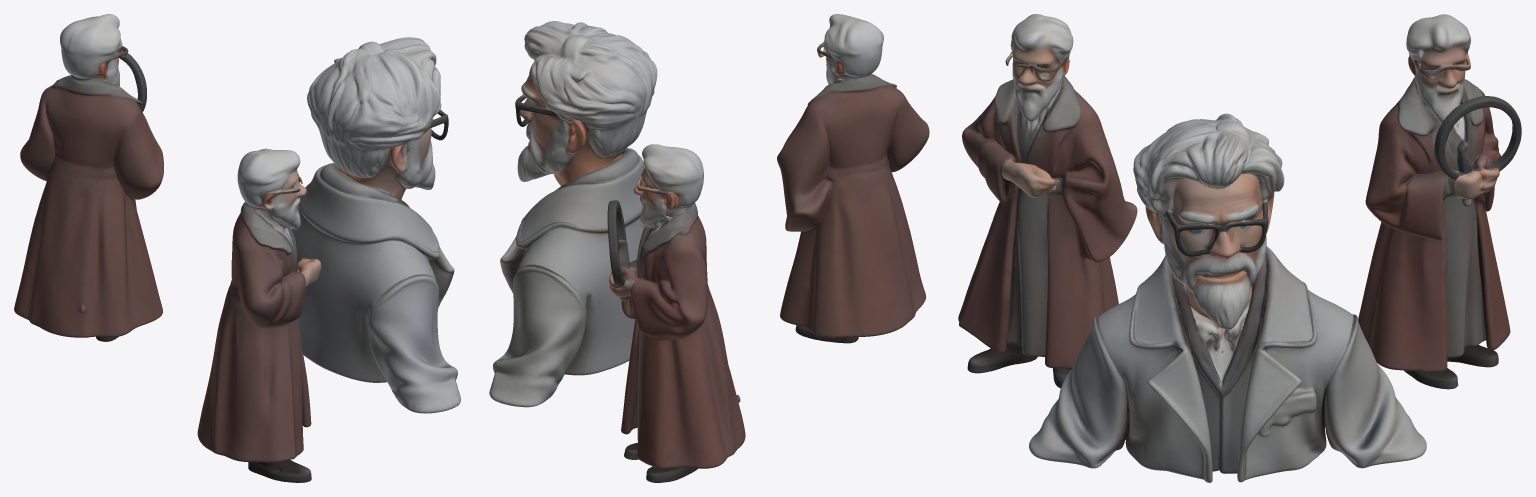
Rendered from detailed_realistic_model_albusdumbledore_11.glb.
3 renders of one model, left to right at view 1: azimuth 30°, elevation 25°; view 2: azimuth 150°, elevation 25°; view 3: azimuth 270°, elevation 25°, orthographic. The views are drawn at different scales.
Visible parts, largest first — view 1: tripo_node_5ba37e32-6a71-4662-8517-dea6bcebb41e; view 2: tripo_node_5ba37e32-6a71-4662-8517-dea6bcebb41e; view 3: tripo_node_5ba37e32-6a71-4662-8517-dea6bcebb41e.
Part boxes in pixels (<box>): tripo_node_5ba37e32-6a71-4662-8517-dea6bcebb41e: <box>14,14,460,482</box>; tripo_node_5ba37e32-6a71-4662-8517-dea6bcebb41e: <box>489,14,929,482</box>; tripo_node_5ba37e32-6a71-4662-8517-dea6bcebb41e: <box>958,14,1521,482</box>.
Bounding box in the file's own units: 0.7111 × 0.6833 × 1.
Materials: 1 (1 with a texture image).
